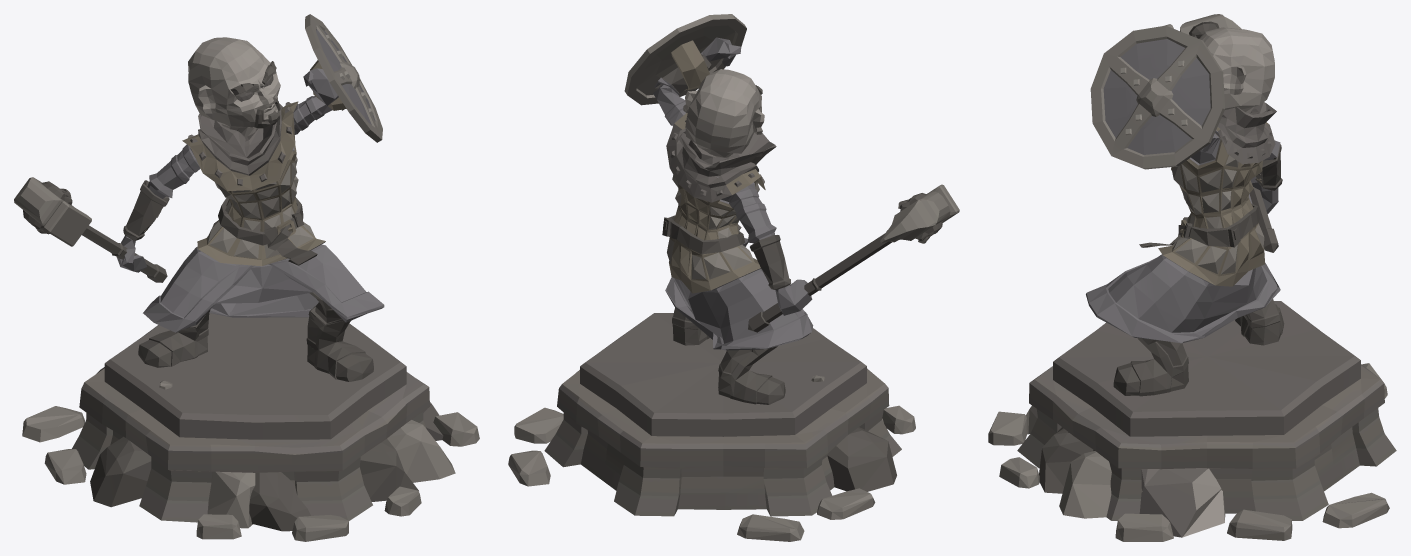
Rendered from tempStoneHero.fbx.
The picture shows the model from 3 angles, left to right: view 1: azimuth 30°, elevation 25°; view 2: azimuth 150°, elevation 25°; view 3: azimuth 270°, elevation 25°; orthographic projection. The views are drawn at different scales.
Parts seen in each view (by area): view 1: tempStoneHero; view 2: tempStoneHero; view 3: tempStoneHero.
Boxes of the visible parts, x1,y1,x2,y2 form: tempStoneHero: (14, 14, 479, 541); tempStoneHero: (508, 14, 959, 541); tempStoneHero: (988, 14, 1396, 541).
Size of the model in its own units: 3 by 3.02 by 2.51.
Materials: 1 (1 with a texture image).
